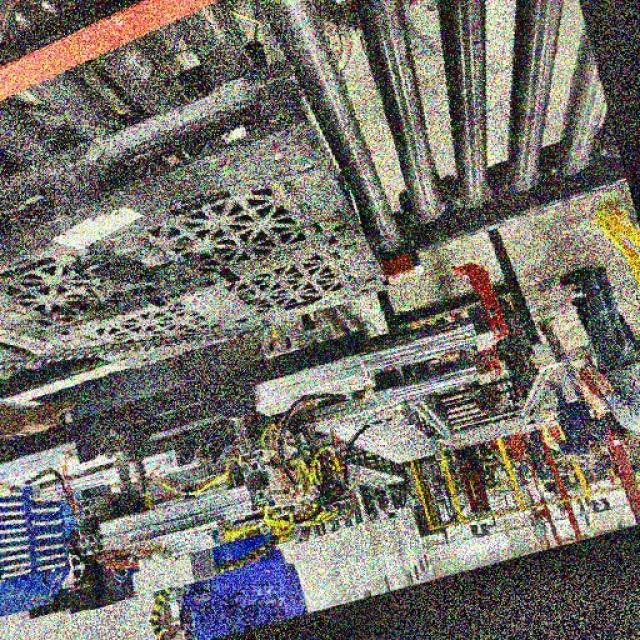igps: (0, 70, 394, 388)
